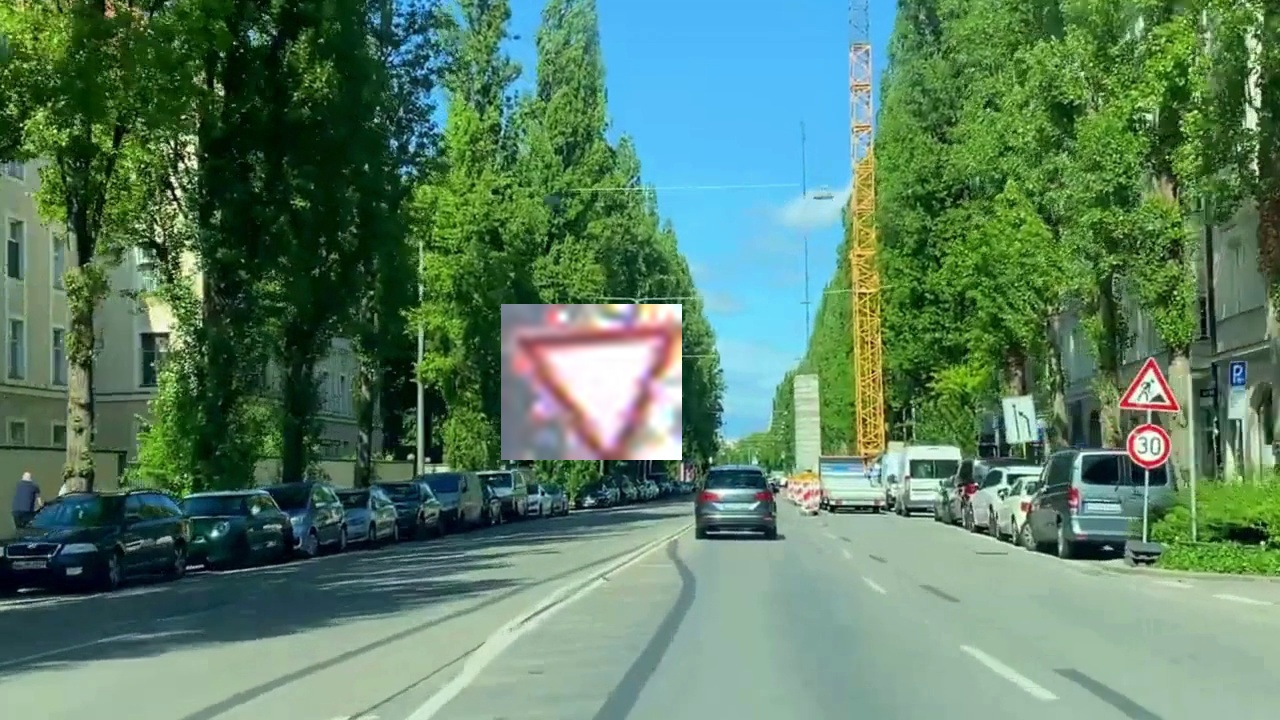Yield: (501, 304, 682, 460)
